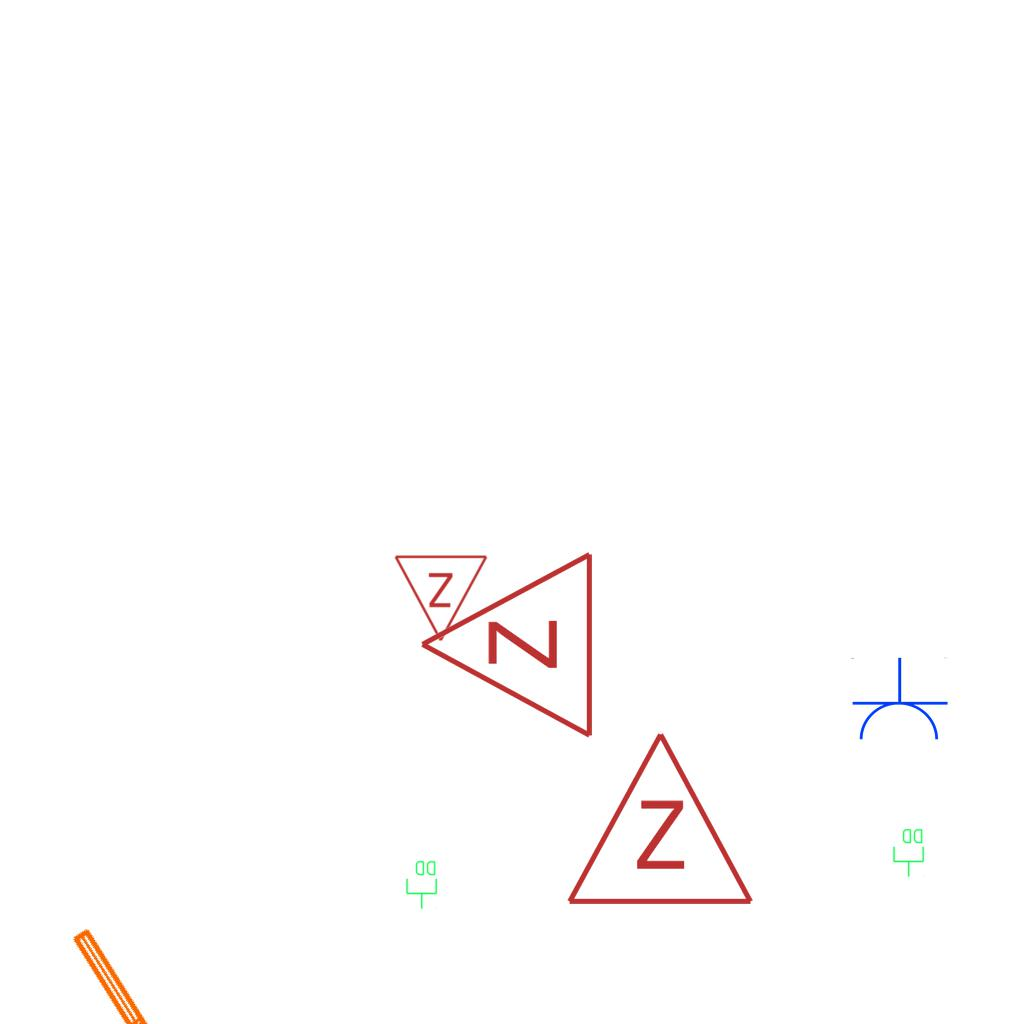Ambulanz_Pendelleuchte_LED: (64, 907, 317, 1024)
Datenanschluss_zweifach: (892, 827, 926, 878), (405, 859, 439, 910)
Schukosteckdose_einfach: (849, 657, 949, 744)
Zimmersignalleuchte: (560, 719, 756, 919), (407, 549, 607, 745), (393, 548, 491, 648)
